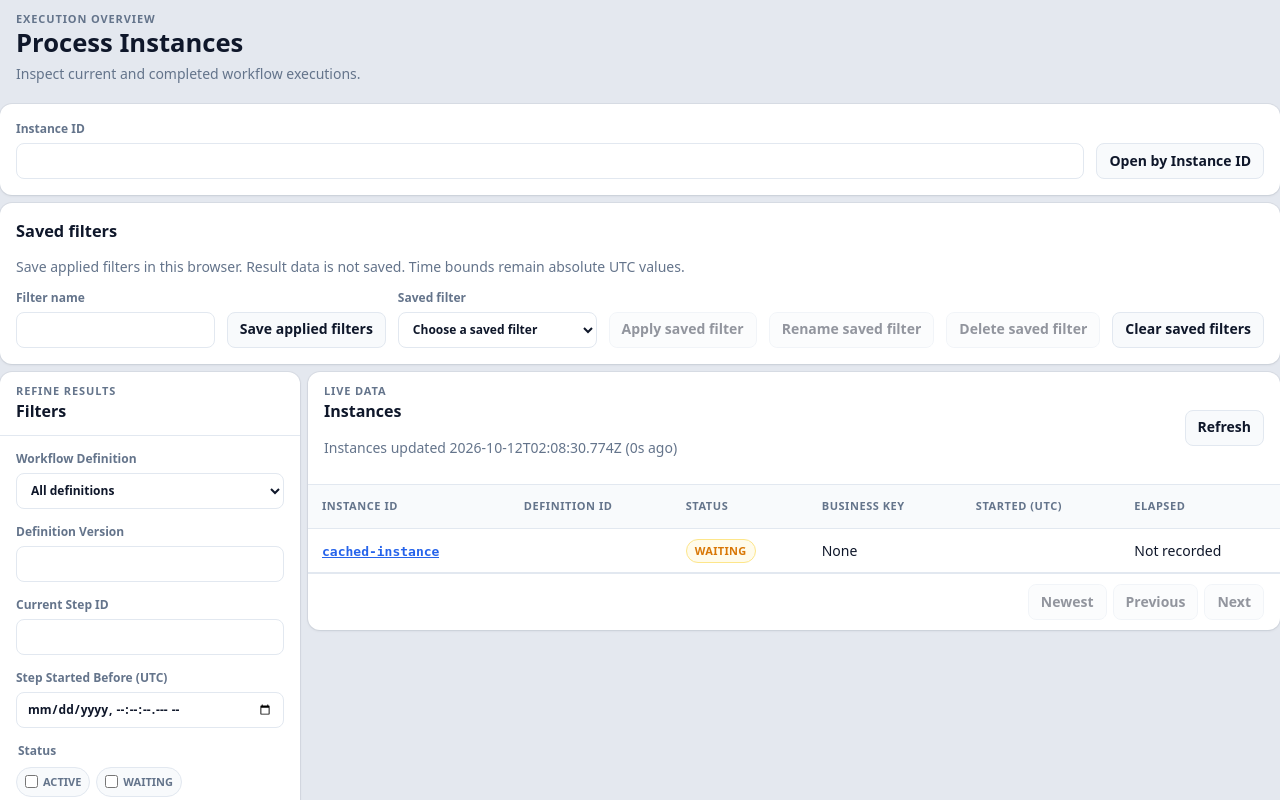
Test: keeps cached rows visible and marks them stale after a temporary failure
Expected: the cell "cached-instance" is shown, [308,529,510,573]
What coordinates should you click on to do the following:
click the button "Refresh"
I would click on:
 (1224, 428)
Its box is [1184,410,1264,446].
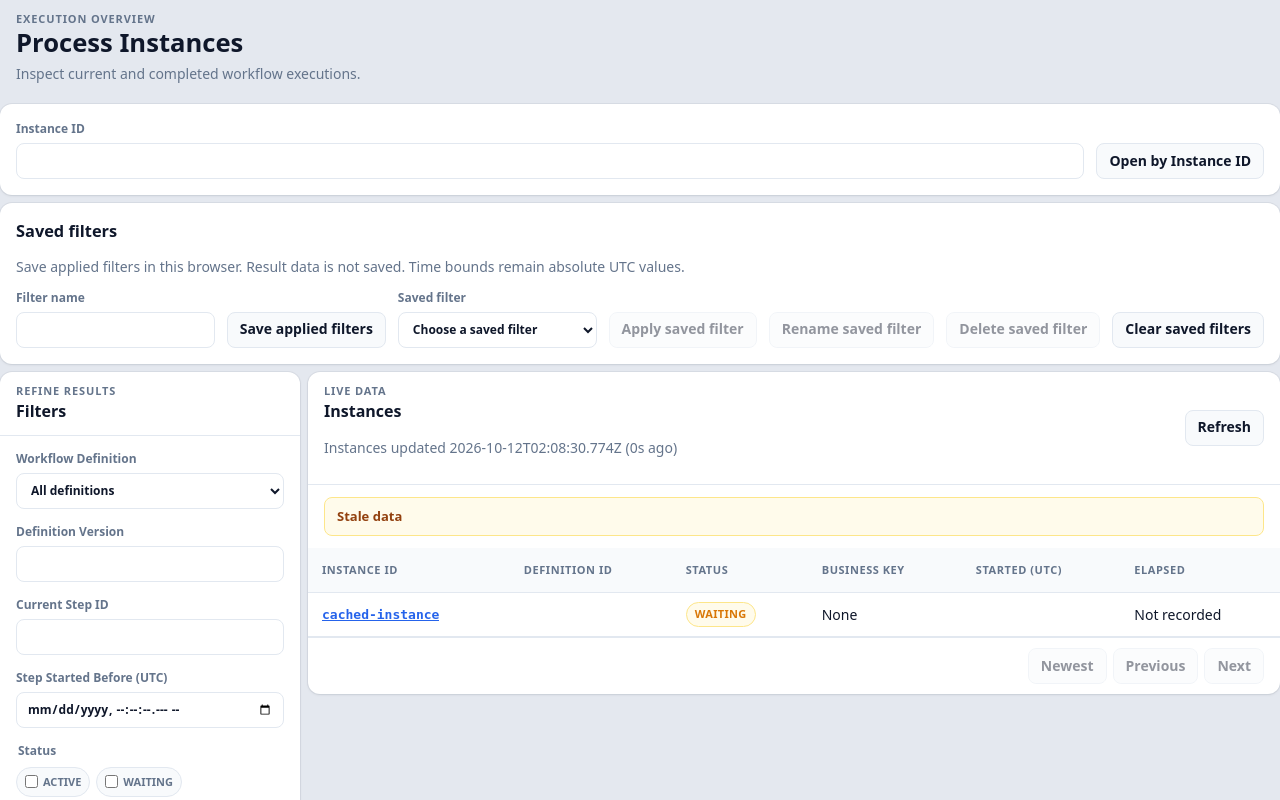
Expected: the cell "cached-instance" is shown, [308,592,510,636]
Result: the text "Stale data" is shown at [324,497,1264,536]
